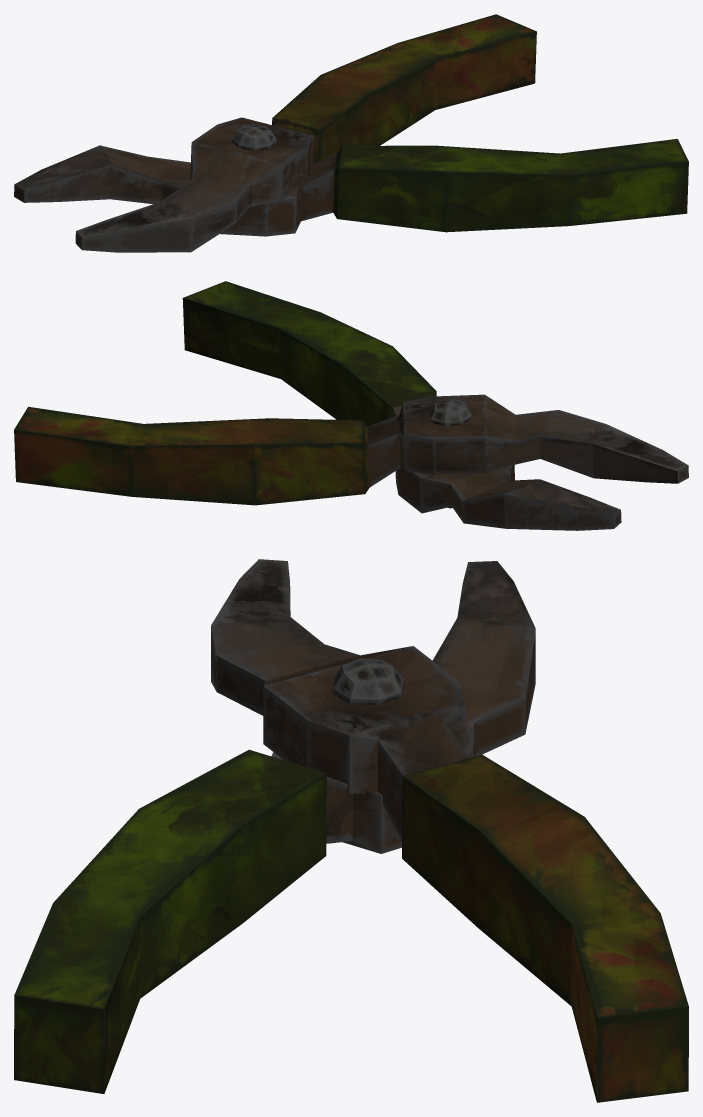
Rendered from Tong.Small.fbx.
The picture shows the model from 3 angles, top to bottom: view 1: azimuth 30°, elevation 25°; view 2: azimuth 150°, elevation 25°; view 3: azimuth 270°, elevation 25°; orthographic projection. The views are drawn at different scales.
Parts seen in each view (by area): view 1: Tong.small; view 2: Tong.small; view 3: Tong.small.
Part boxes in pixels (x1,y1,x2,y2): Tong.small: (14,14,688,252); Tong.small: (14,281,688,530); Tong.small: (14,559,688,1102).
Bounding box in the file's own units: 27.58 × 4.84 × 17.33.
